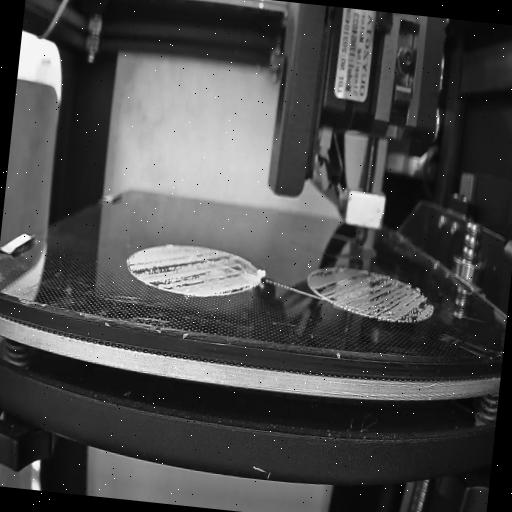under_extrusion: (128, 248, 252, 298), (367, 272, 432, 324), (311, 264, 368, 306)
